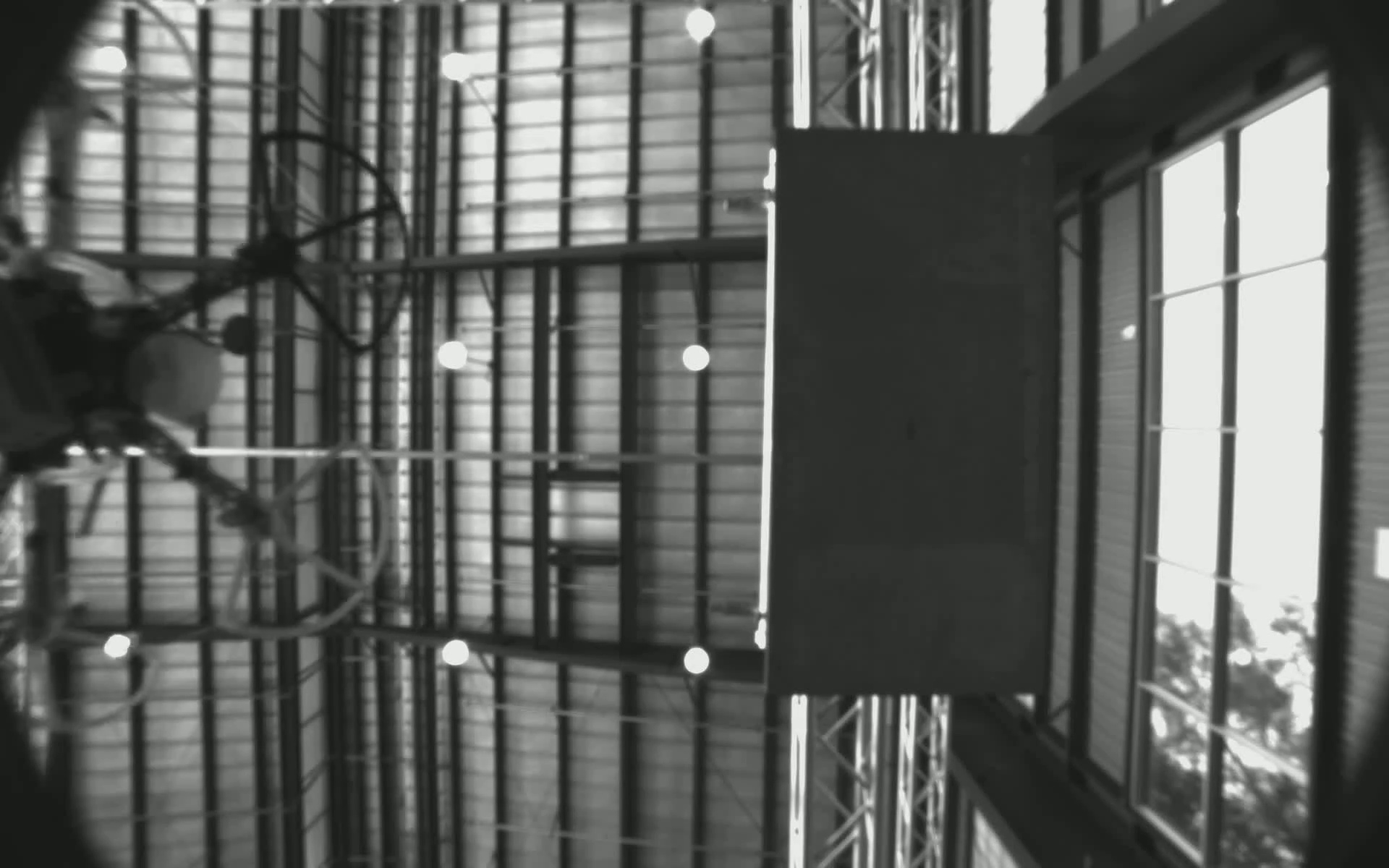drone: (0, 55, 429, 697)
